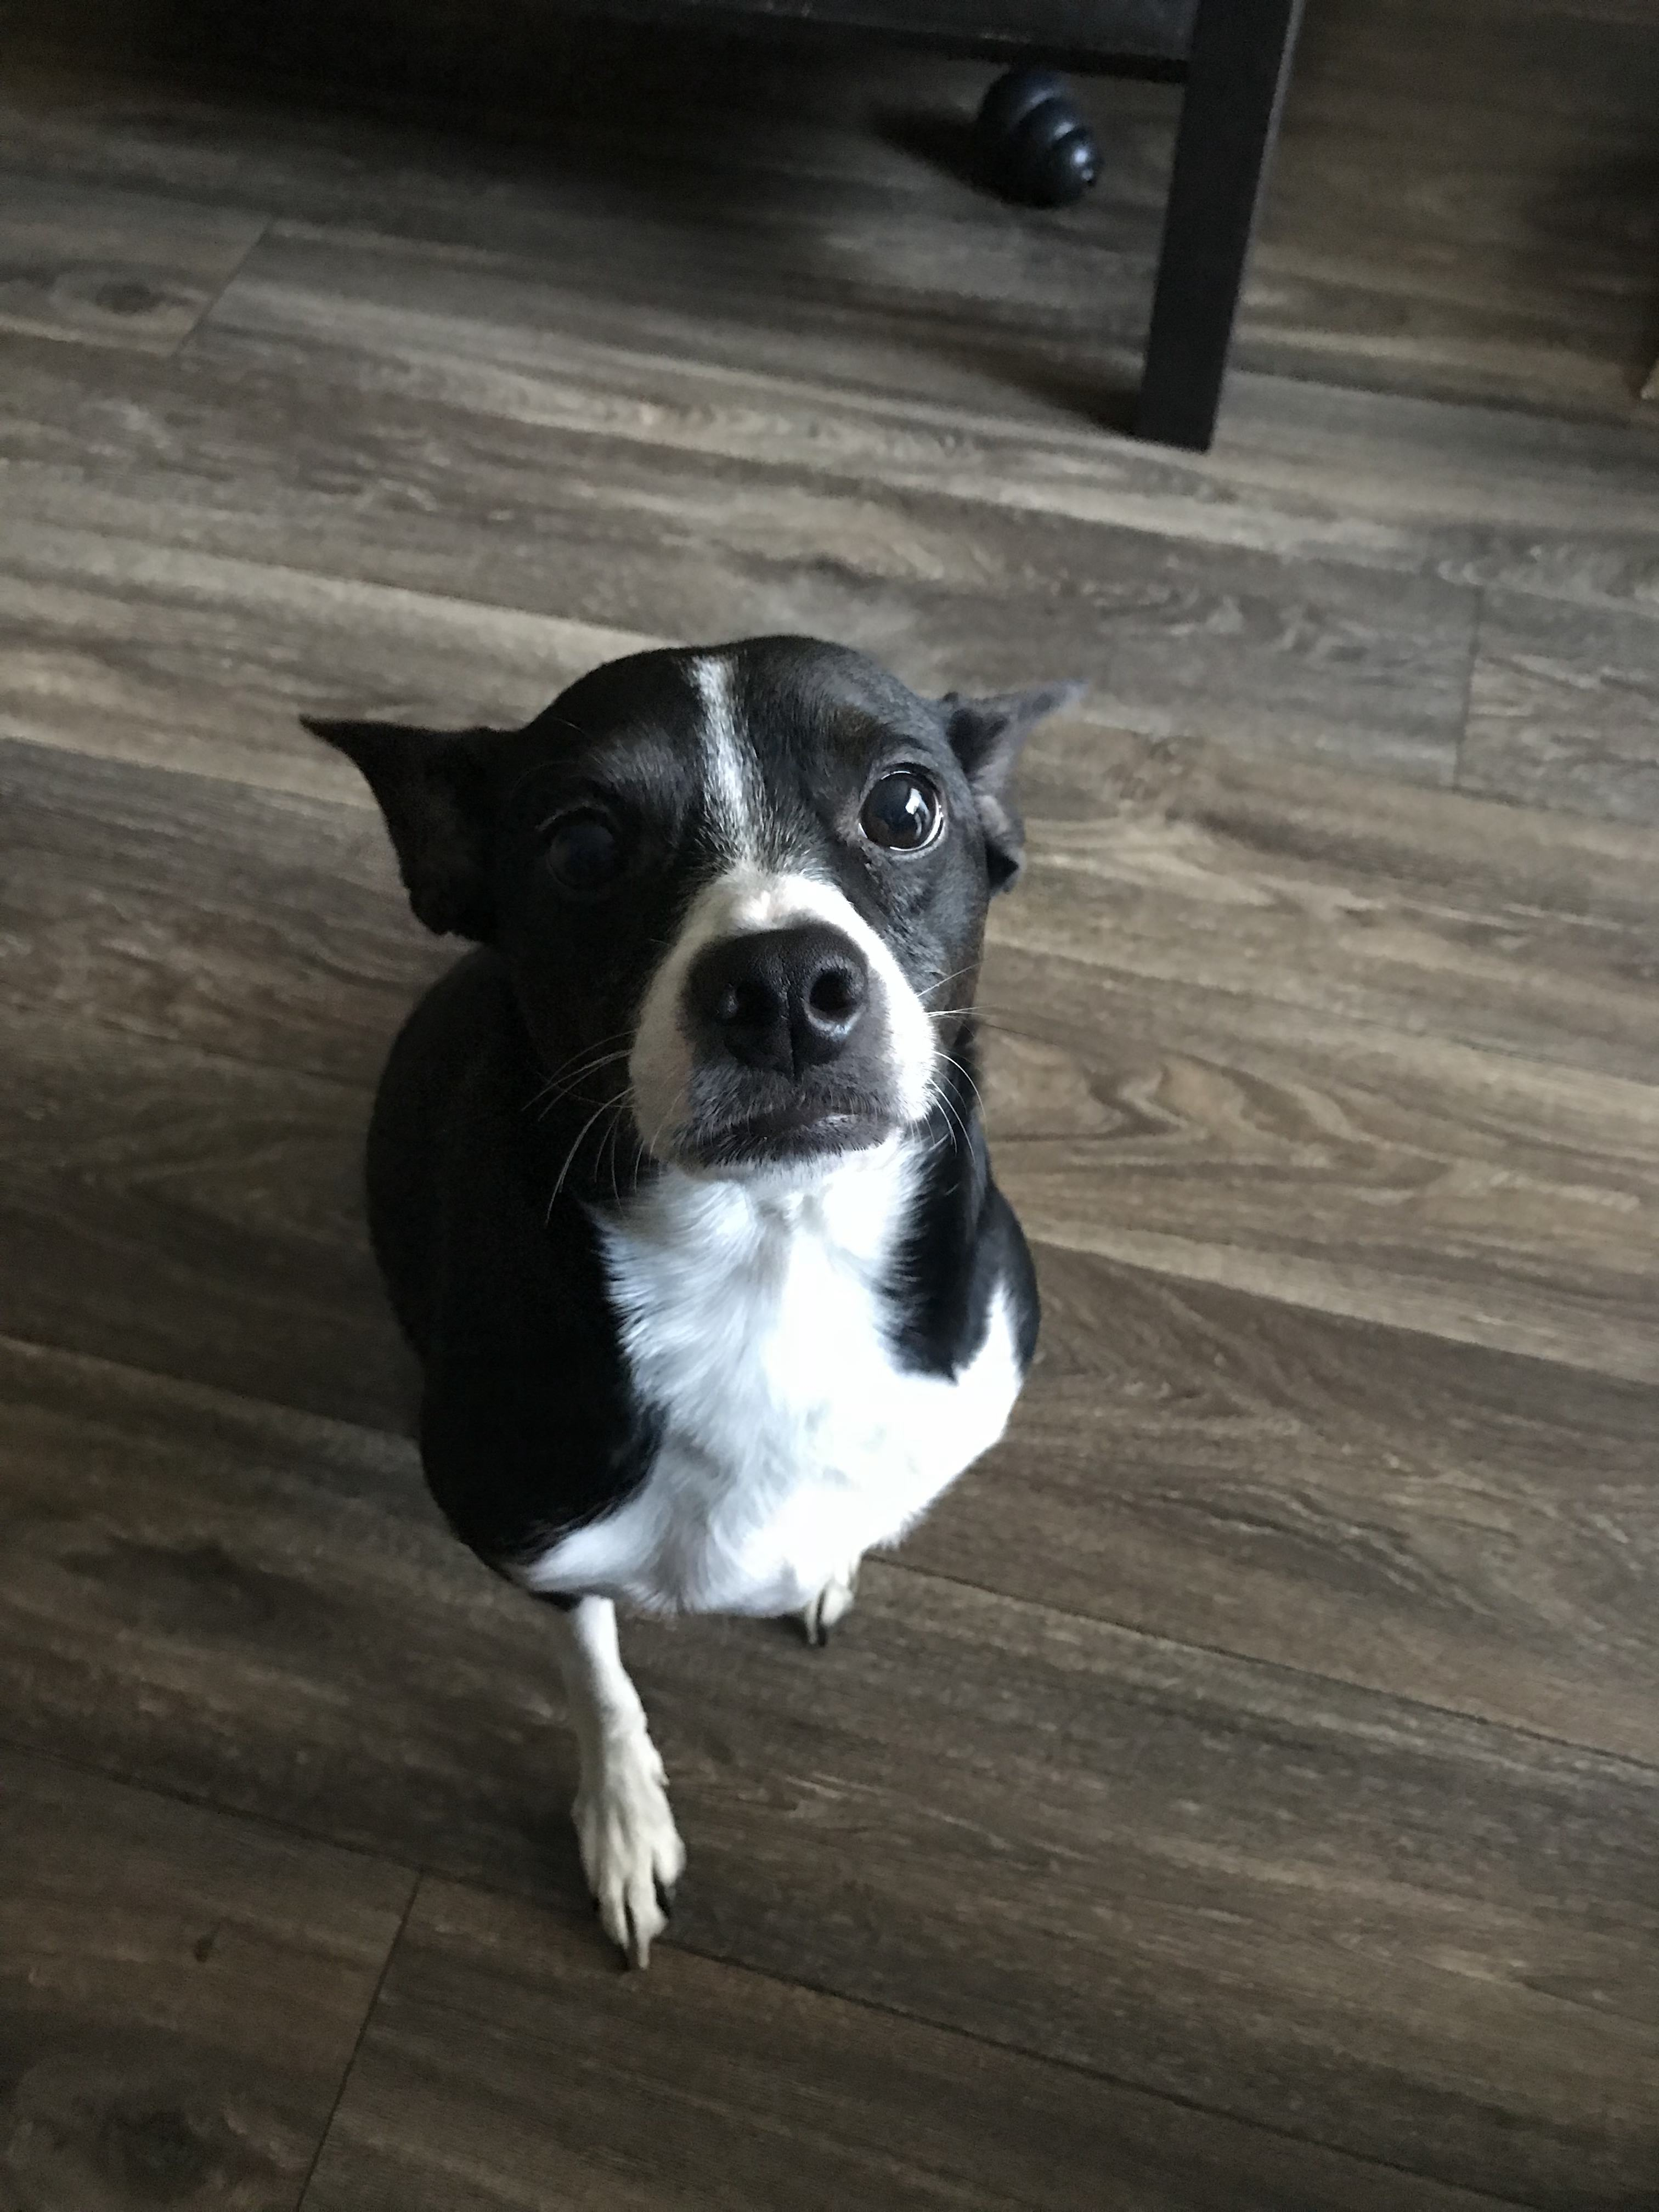Harley: (308, 613, 1080, 1989)
